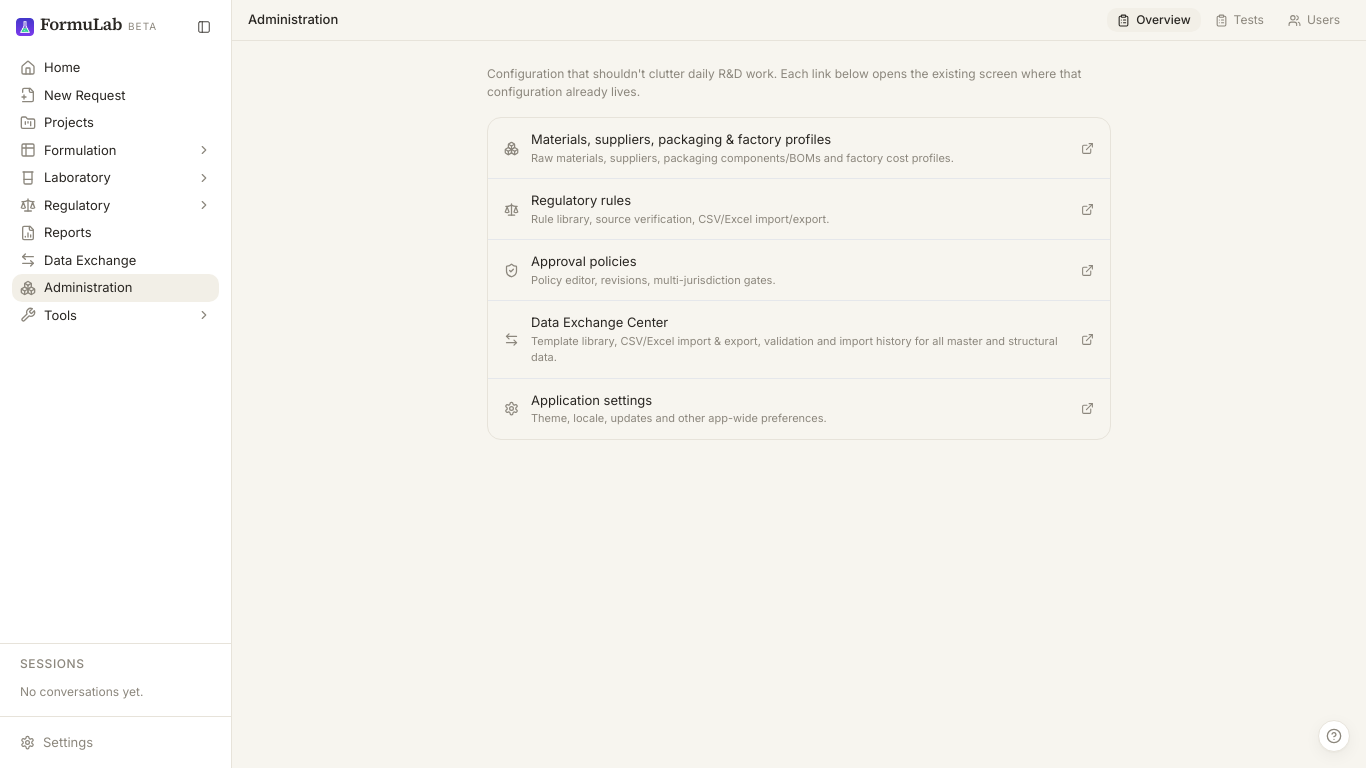
Test case: Administration workspace › Phase 13 Session 5: has a Users tab (Administration → Users)
This screenshot has width=1366, height=768.
Expected: the heading "Administration" is shown, [248,10,338,30]
What coordinates should you click on to do the following:
click the button "Users"
I would click on:
 (1314, 20)
Its box is [1278,8,1350,32].
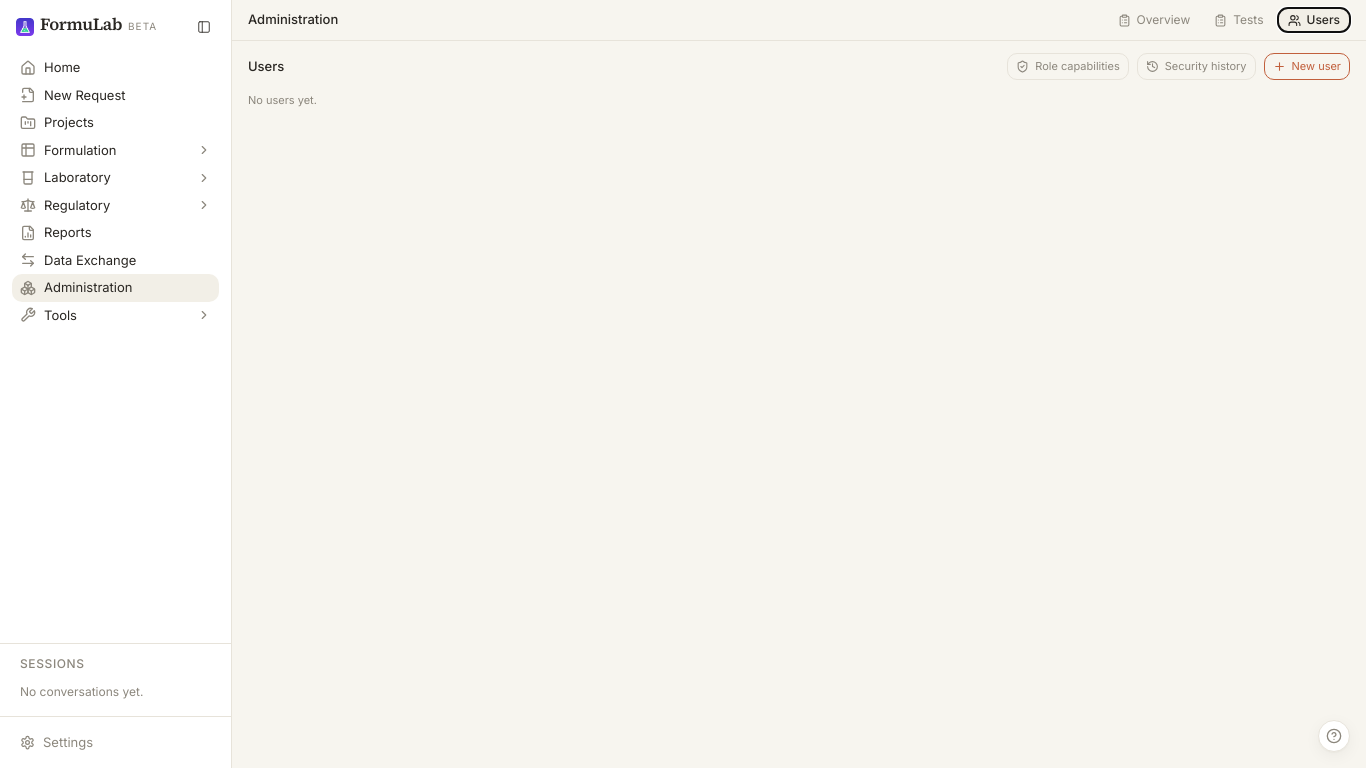
Now the button "New user" is shown, box [1264,53,1350,80]
